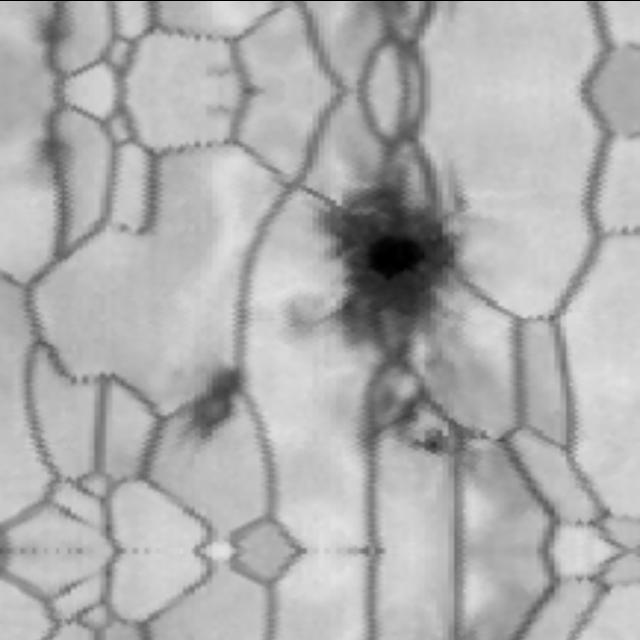good_void: (264, 140, 500, 376), (150, 337, 273, 465), (336, 352, 448, 462), (21, 125, 88, 199), (275, 287, 325, 346), (27, 0, 77, 50), (196, 91, 238, 128), (196, 50, 238, 87), (415, 426, 460, 460)
